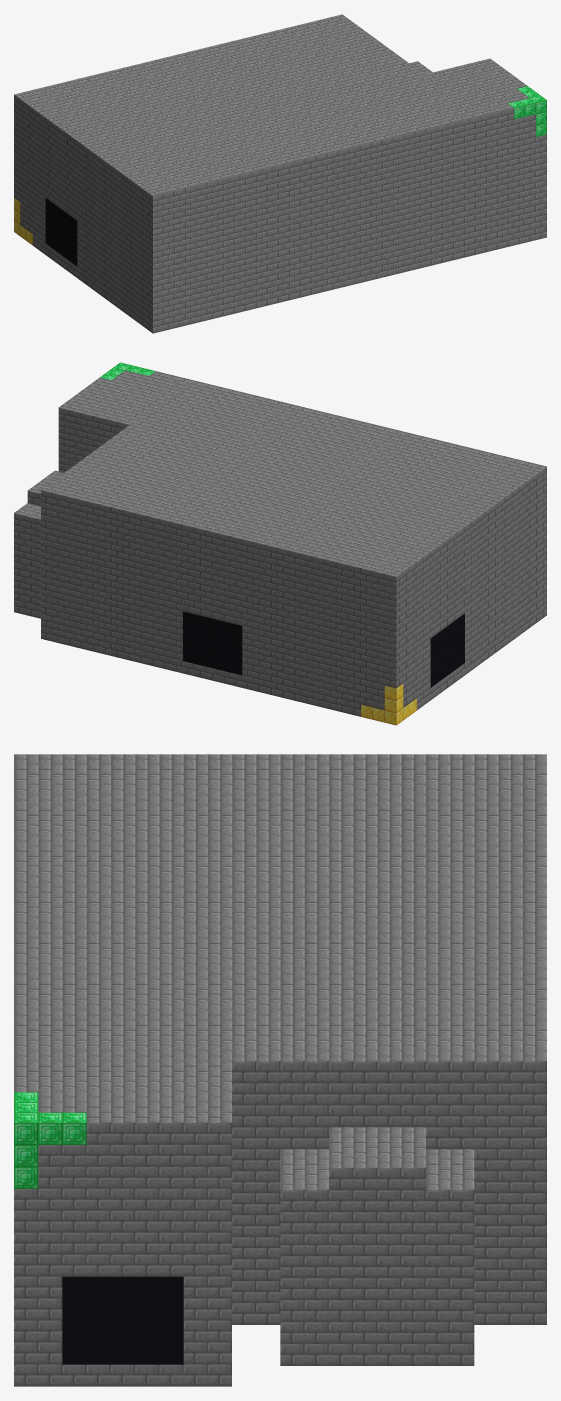
File: 3 Big A.obj
3 views of the same model, one above another, from view 1: azimuth 30°, elevation 25°; view 2: azimuth 150°, elevation 25°; view 3: azimuth 270°, elevation 25° (orthographic). The views are drawn at different scales.
Parts seen in each view (by area): view 1: Stone_Bricks, Black_Concrete, Block_of_Emerald, Block_of_Gold; view 2: Stone_Bricks, Black_Concrete, Block_of_Gold; view 3: Stone_Bricks, Black_Concrete, Block_of_Emerald, Double_Stone_Brick_Slab, Stone_Brick_Slab, Stone_Brick_Stairs.
Boxes of the visible parts, x1,y1,x2,y2 form: Stone_Bricks: (14, 14, 546, 333); Black_Concrete: (45, 198, 77, 266); Block_of_Emerald: (508, 86, 546, 136); Block_of_Gold: (14, 198, 32, 245); Stone_Bricks: (14, 370, 546, 716); Black_Concrete: (183, 611, 464, 687); Block_of_Gold: (361, 683, 416, 725); Stone_Bricks: (14, 754, 546, 1386); Black_Concrete: (62, 1276, 183, 1364); Block_of_Emerald: (14, 1092, 86, 1188); Double_Stone_Brick_Slab: (353, 1105, 425, 1158); Stone_Brick_Slab: (353, 1127, 401, 1158); Stone_Brick_Stairs: (304, 1149, 449, 1180).
Size of the model in its own units: 36 by 12 by 22.
Materials: 9 (9 with a texture image).
